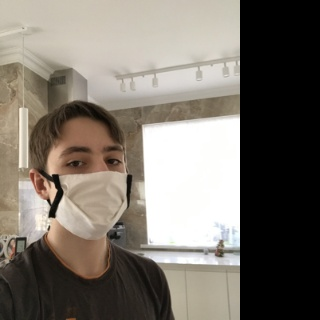with_mask: (51, 140, 132, 240)
